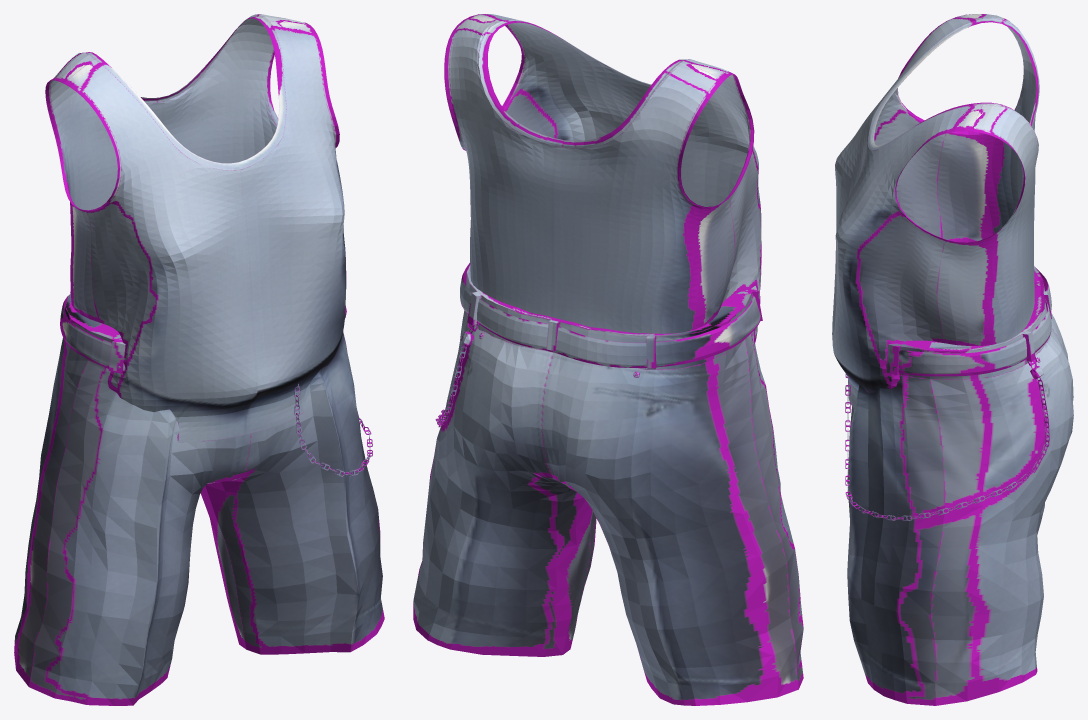
3 renders of one model, left to right at view 1: azimuth 30°, elevation 25°; view 2: azimuth 150°, elevation 25°; view 3: azimuth 270°, elevation 25°, orthographic. The views are drawn at different scales.
Bounding box in the file's own units: 0.5761 × 0.9552 × 0.3596.
1 material, 1 textured.
